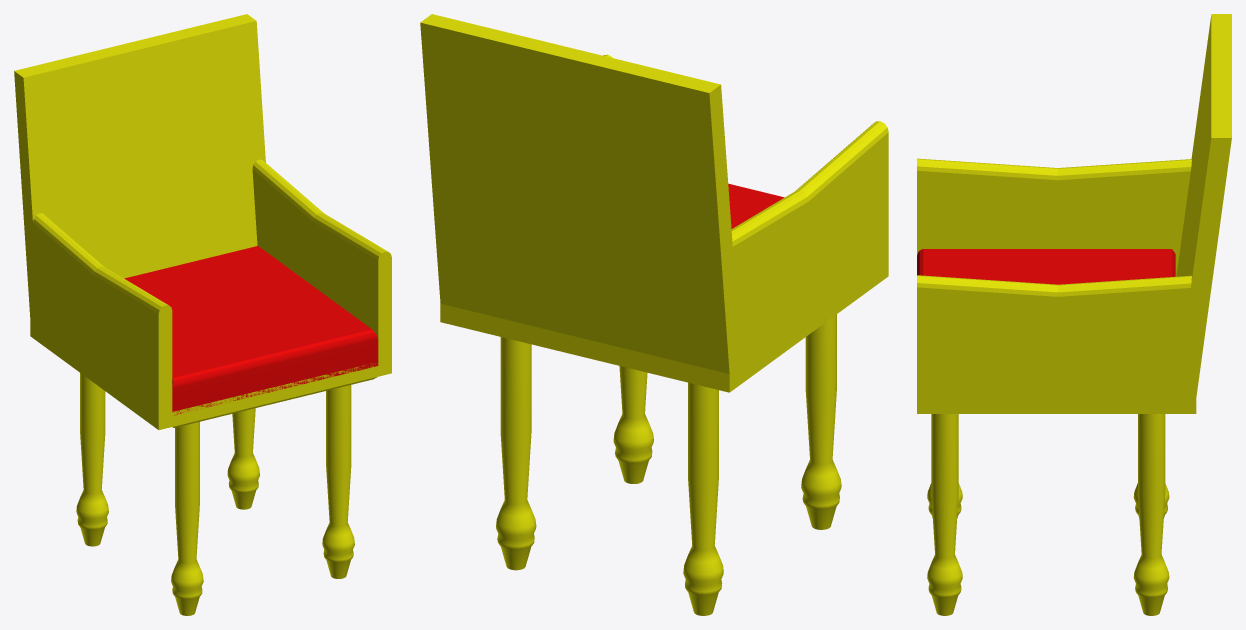
The model's file is Chaise bureau.fbx.
The picture shows the model from 3 angles, left to right: view 1: azimuth 30°, elevation 25°; view 2: azimuth 150°, elevation 25°; view 3: azimuth 270°, elevation 25°; orthographic projection. The views are drawn at different scales.
Parts seen in each view (by area): view 1: pCube2, coussin1, pCylinder7, pCylinder8, pCylinder5, pCylinder6; view 2: pCube2, pCylinder6, pCylinder5, pCylinder8, pCylinder7, coussin1; view 3: pCube2, coussin1, pCylinder7, pCylinder6.
Part boxes in pixels (<box>): pCube2: <box>14,14,391,429</box>; coussin1: <box>124,246,378,415</box>; pCylinder7: <box>322,385,354,578</box>; pCylinder8: <box>171,422,203,615</box>; pCylinder5: <box>76,373,108,546</box>; pCylinder6: <box>227,408,259,509</box>; pCube2: <box>420,14,888,392</box>; pCylinder6: <box>496,337,536,570</box>; pCylinder5: <box>683,382,723,615</box>; pCylinder8: <box>801,314,841,529</box>; pCylinder7: <box>613,366,653,483</box>; coussin1: <box>728,183,784,228</box>; pCube2: <box>917,14,1231,413</box>; coussin1: <box>917,249,1175,284</box>; pCylinder7: <box>927,414,962,615</box>; pCylinder6: <box>1133,414,1169,615</box>.
Size of the model in its own units: 3.42 by 6.38 by 3.67.
